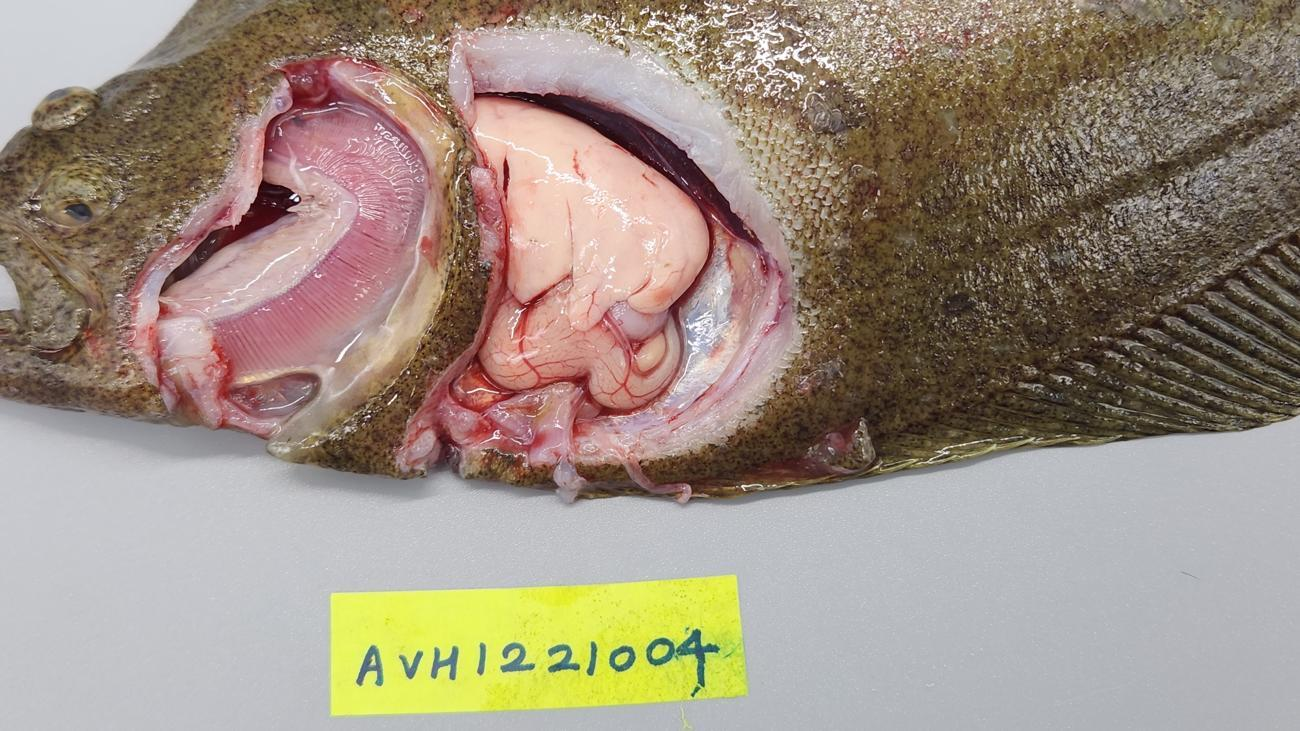VIGIP: (204, 116, 421, 375)
